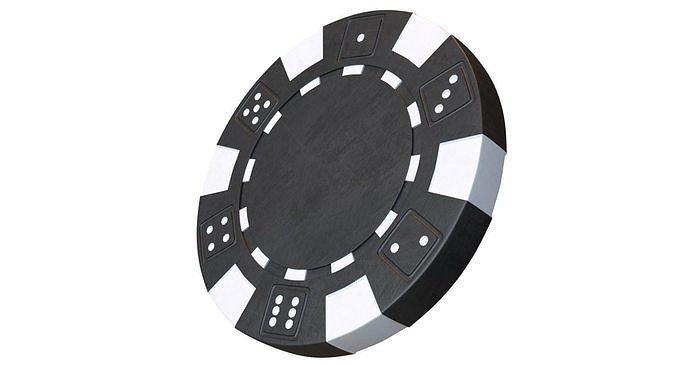chip-black: (197, 11, 506, 356)
